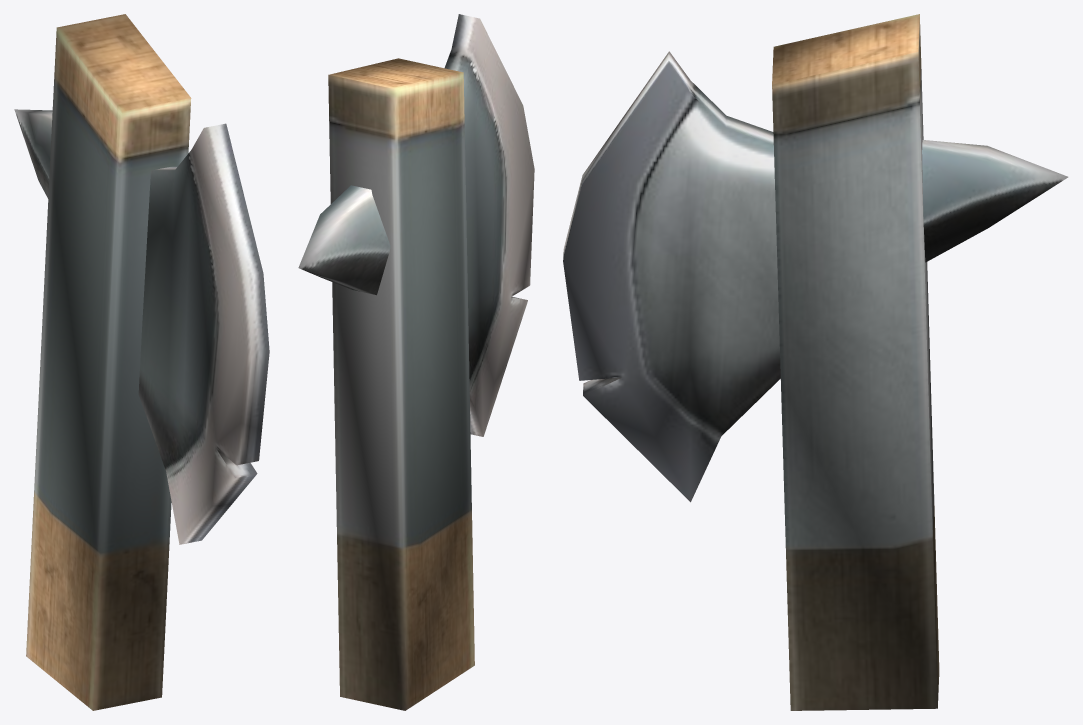
Rendered from axe.fbx.
The picture shows the model from 3 angles, left to right: view 1: azimuth 30°, elevation 25°; view 2: azimuth 150°, elevation 25°; view 3: azimuth 270°, elevation 25°; orthographic projection. The views are drawn at different scales.
Parts seen in each view (by area): view 1: weapon_model1; view 2: weapon_model1; view 3: weapon_model1.
Boxes of the visible parts, x1,y1,x2,y2 form: weapon_model1: [14, 14, 269, 710]; weapon_model1: [298, 14, 534, 710]; weapon_model1: [563, 14, 1068, 710].
Bounding box in the file's own units: 11.82 × 78.13 × 53.14.
